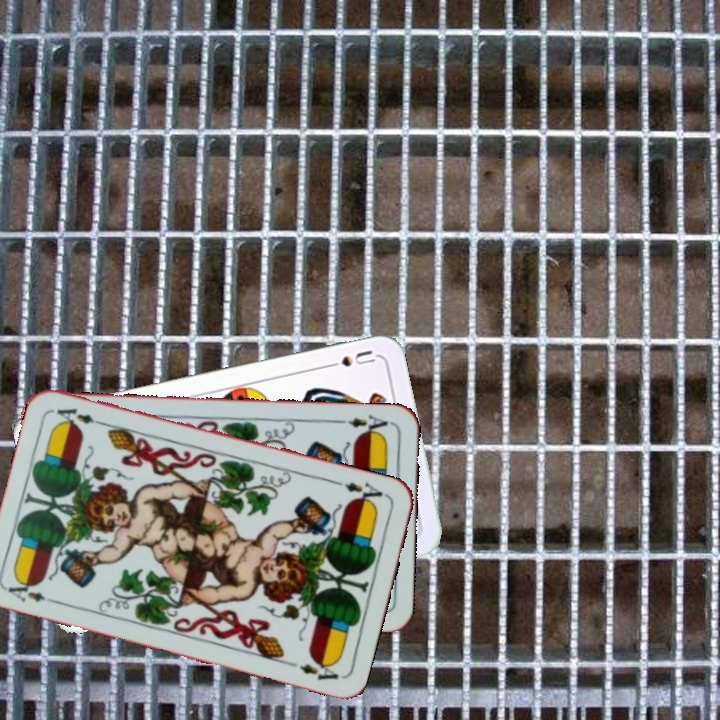EA: (332, 477, 390, 508), (4, 576, 61, 606), (334, 410, 394, 438)
SU: (320, 346, 378, 372)
